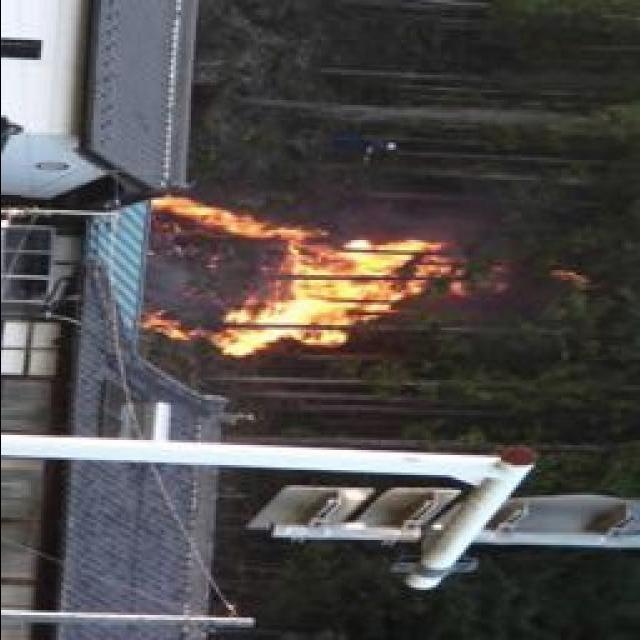Fire: (143, 208, 464, 356)
